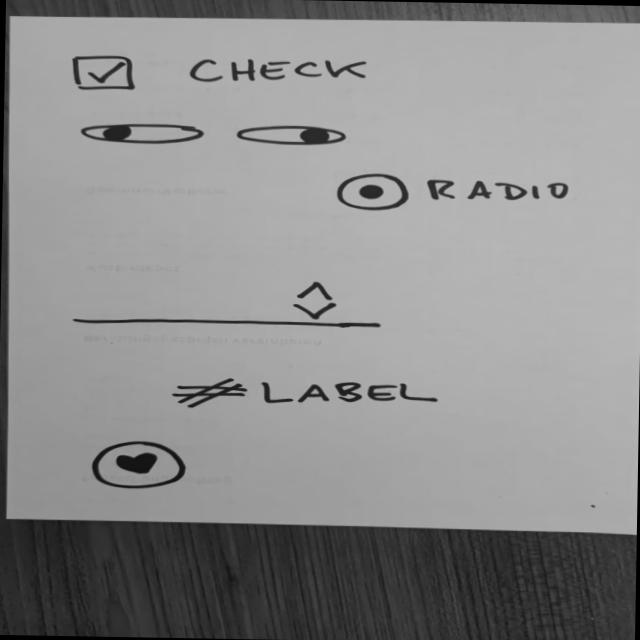checkbox: (69, 51, 377, 98)
icon-button: (87, 438, 191, 492)
label: (166, 371, 442, 414)
number-input: (66, 274, 388, 332)
radio: (332, 170, 578, 216)
toggle: (74, 121, 208, 147), (232, 122, 350, 146)
